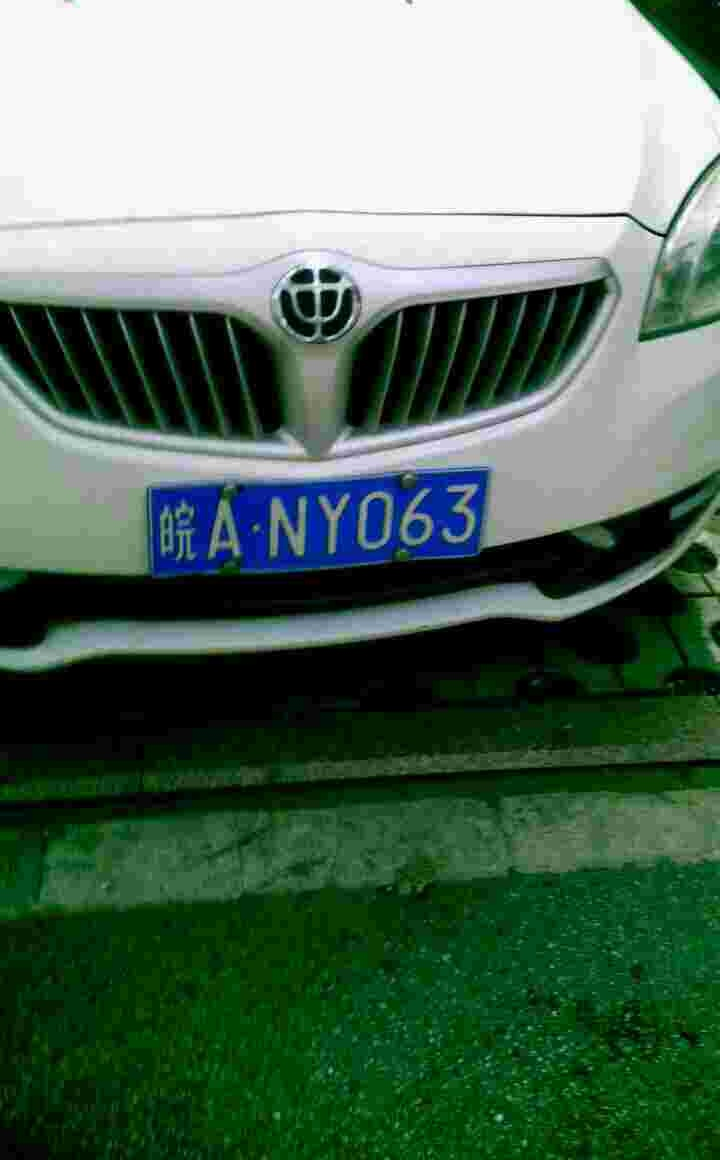license_plate: (148, 468, 492, 572)
